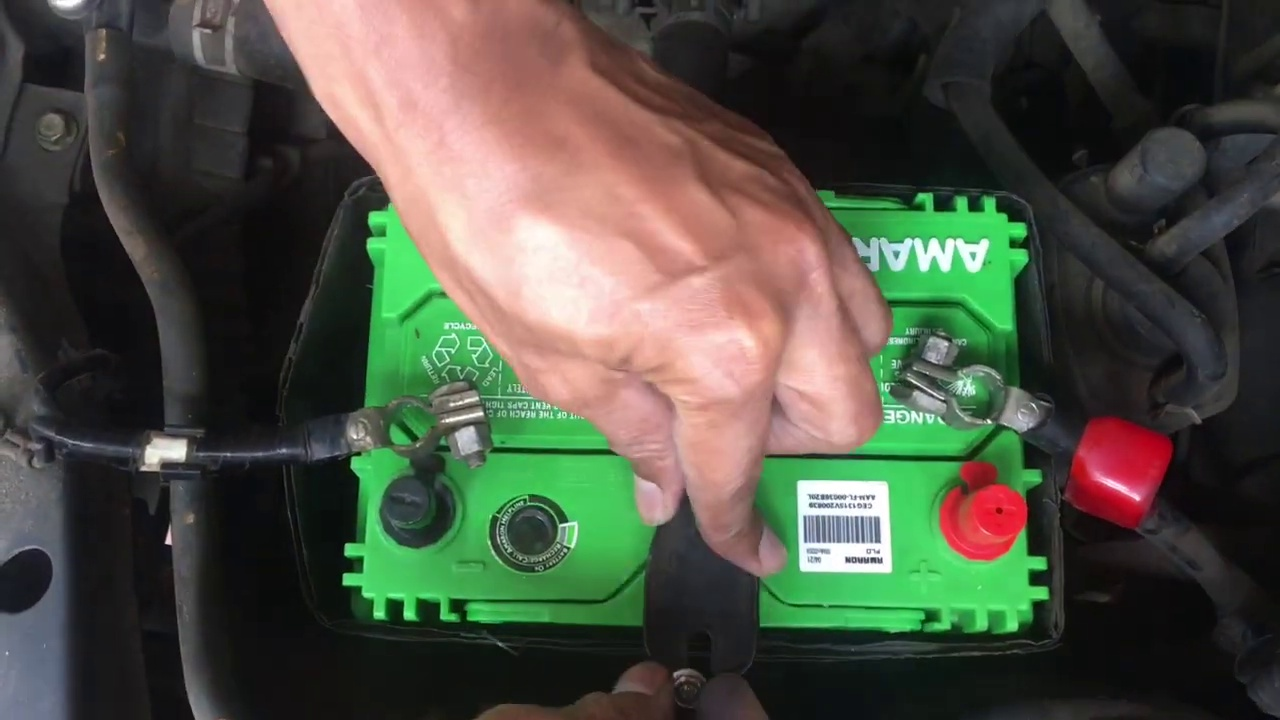battery: (347, 174, 1051, 644)
neg_disconnected: (332, 363, 520, 563)
pos_disconnected: (894, 326, 1180, 585)
